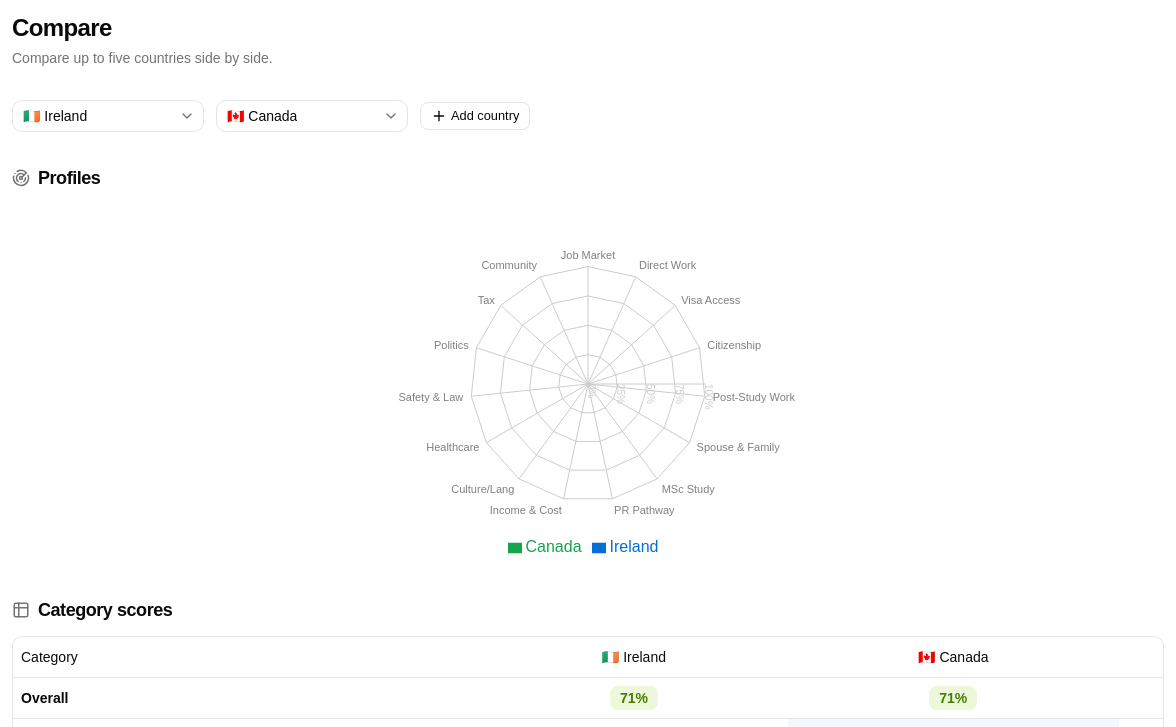
Compare page country slots › starts with 2 country selects and can add up to 5, then hides Add
Check: the number of dropdowns is 2, box [12, 100, 204, 132]; [216, 100, 408, 132]
Click the button "Add country" at point(475, 116), box [420, 102, 530, 130]
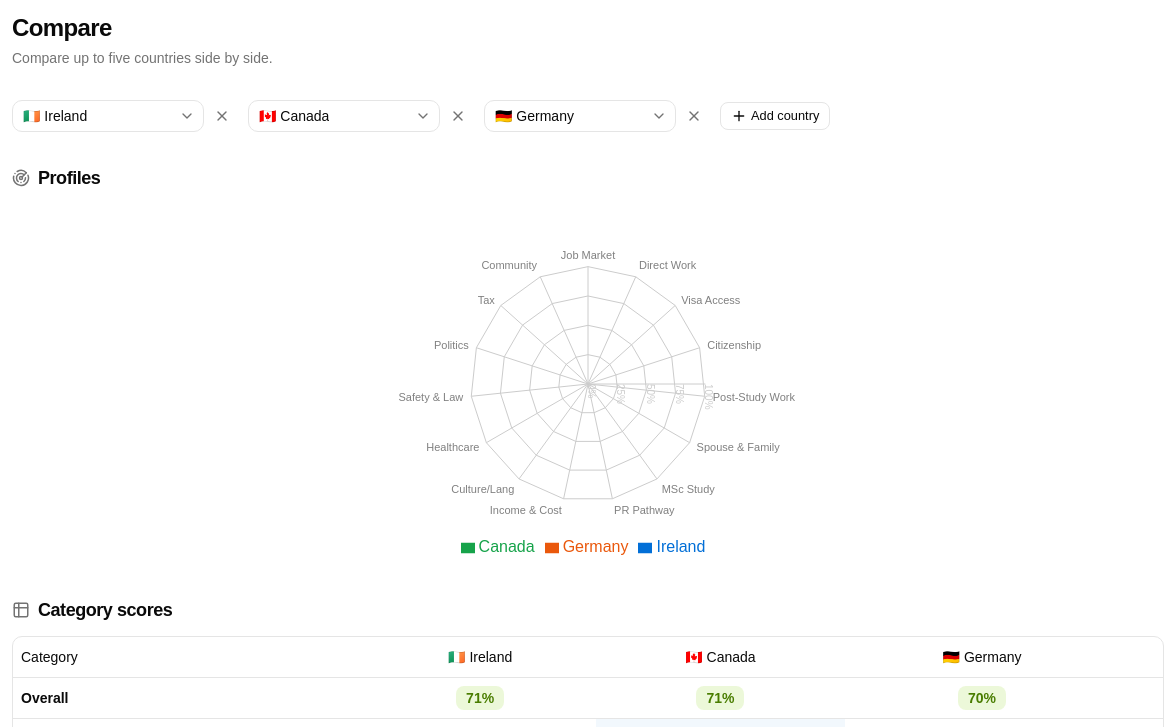
Check: the number of dropdowns is 3, box [12, 100, 204, 132]; [248, 100, 440, 132]; [484, 100, 676, 132]
Click the button "Add country" at point(775, 116), box [720, 102, 830, 130]
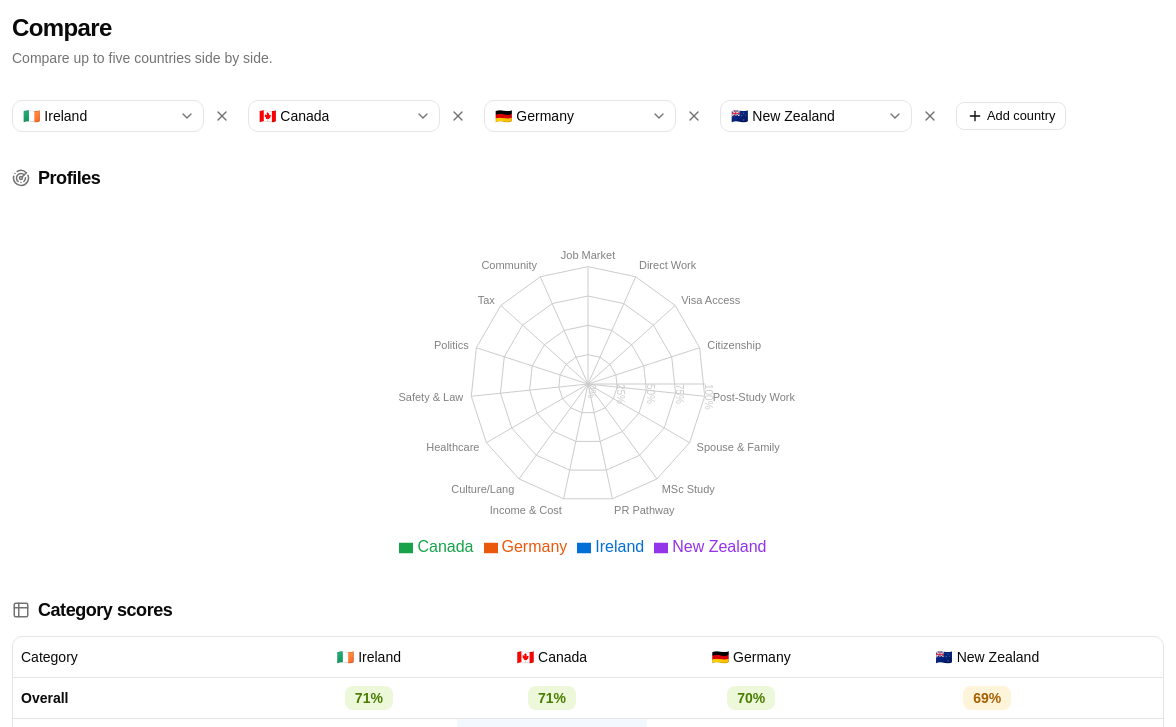
Click the button "Add country" at point(1011, 116), box [956, 102, 1066, 130]
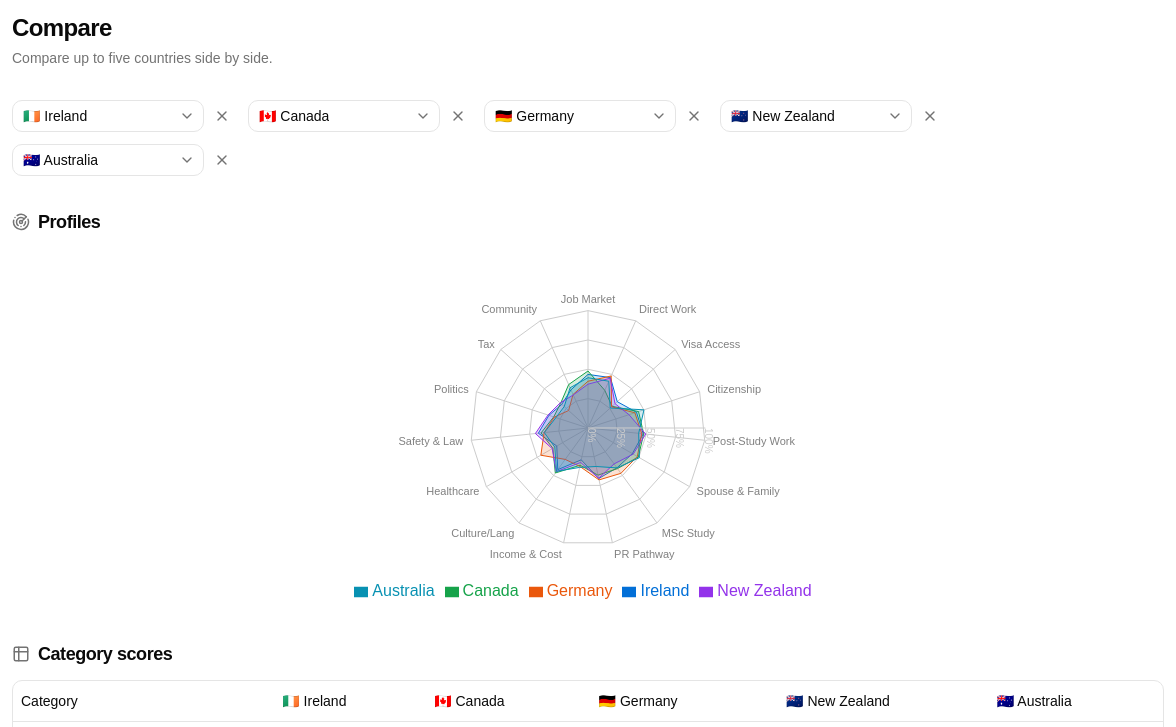
Check: the number of dropdowns is 5, box [12, 100, 204, 132]; [248, 100, 440, 132]; [484, 100, 676, 132]; [720, 100, 912, 132]; [12, 144, 204, 176]
Check: the button "Add country" is gone
